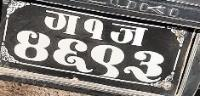1: (84, 16, 104, 41)
3: (123, 46, 165, 87)
4: (13, 27, 50, 64)
6: (54, 33, 92, 74)
9: (90, 42, 124, 81)
ga: (44, 8, 78, 36)
ja: (110, 20, 146, 47)
license-plate: (1, 0, 191, 95)
